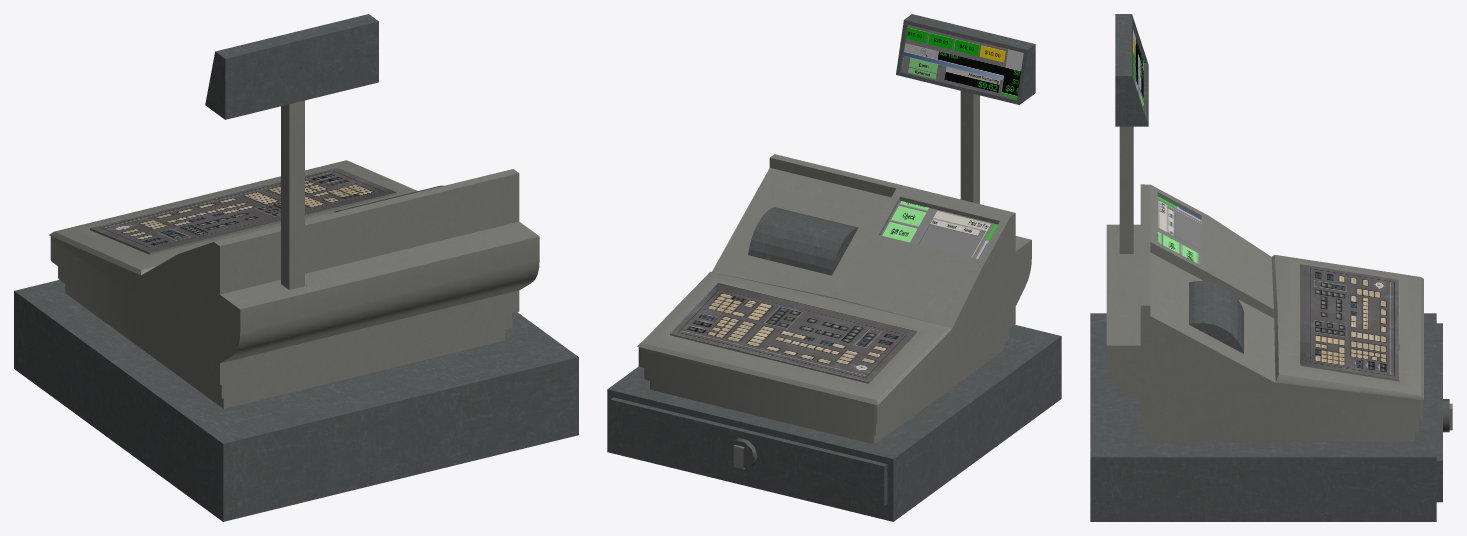
The model's file is SM_Cash_Register.fbx.
The picture shows the model from 3 angles, left to right: view 1: azimuth 30°, elevation 25°; view 2: azimuth 150°, elevation 25°; view 3: azimuth 270°, elevation 25°; orthographic projection. The views are drawn at different scales.
Parts seen in each view (by area): view 1: SM_Cash_Register; view 2: SM_Cash_Register; view 3: SM_Cash_Register.
Boxes of the visible parts, box(x1,y1,x2,y2) form: SM_Cash_Register: box(14, 14, 578, 521); SM_Cash_Register: box(607, 14, 1061, 521); SM_Cash_Register: box(1090, 14, 1452, 521).
Size of the model in its own units: 89.61 by 108 by 95.43.
Materials: 4 (4 with a texture image).
